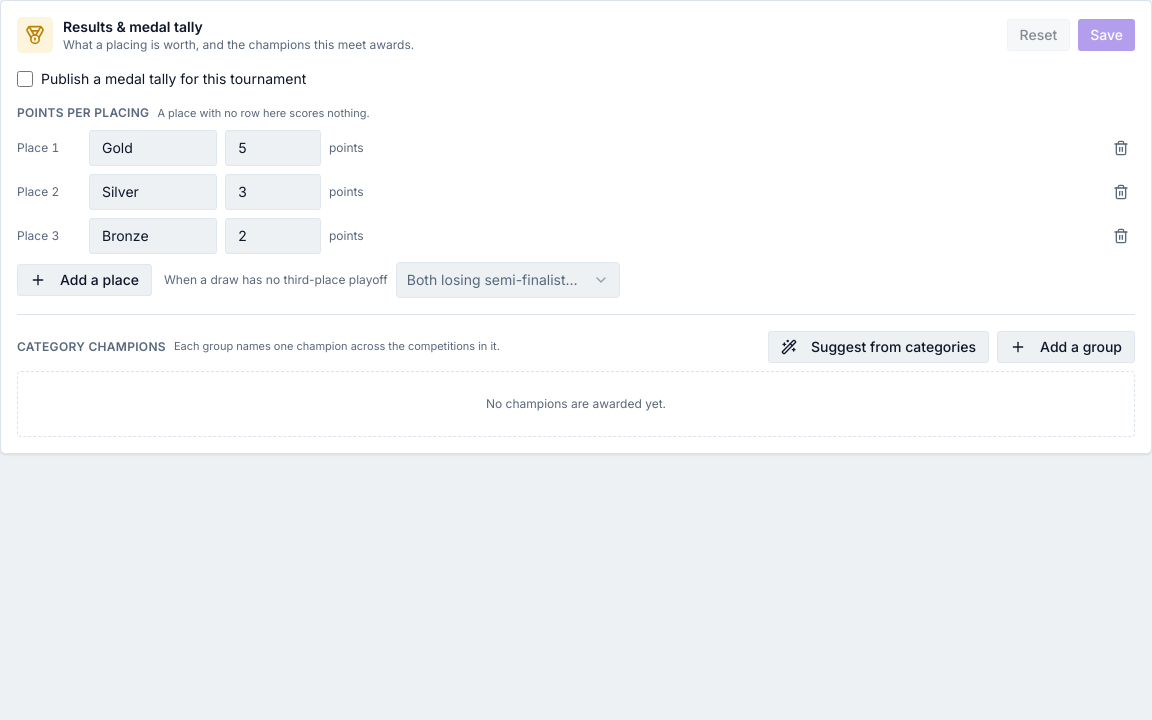
Test: AwardsSettingsCard › adds a fourth place, because a meet can score deeper than three
Check: the number field with test id "ladder-points-1" is shown, box [225,130,321,166]
Click the button "Add a place": [84, 280] box [17,264,152,296]
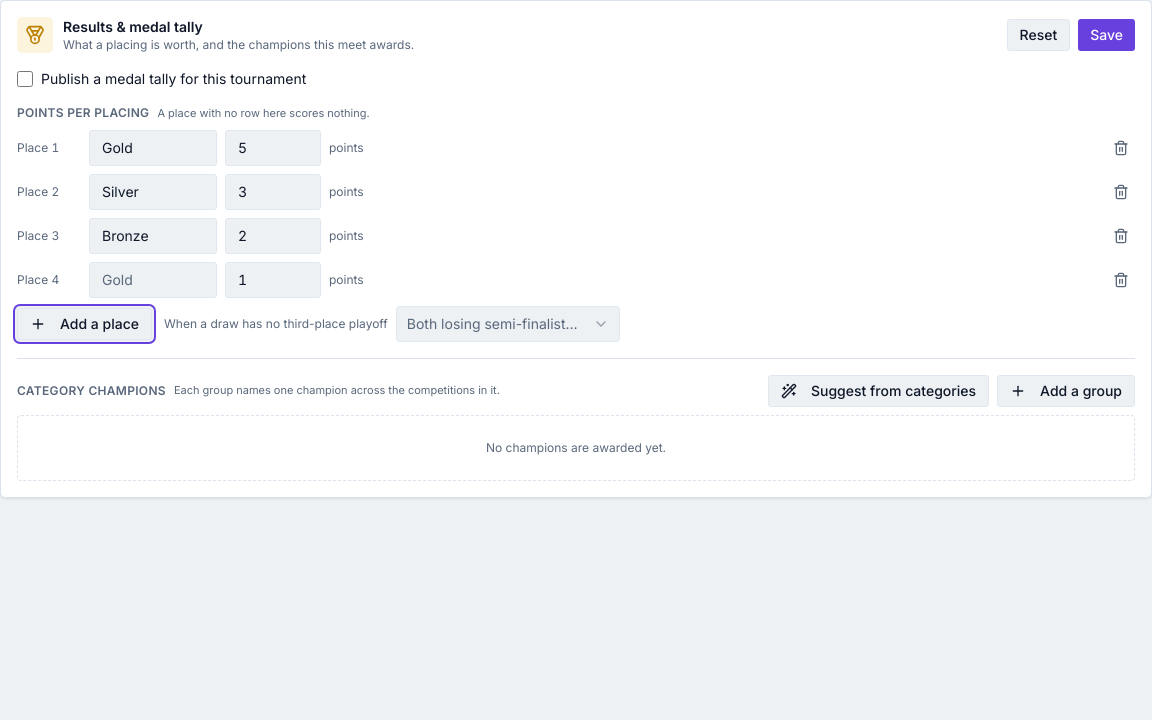
Check: the number field with test id "ladder-points-4" is shown, box [225,262,321,298]
